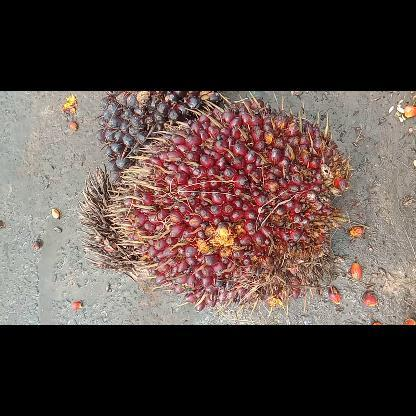Janjang kosong: (77, 165, 159, 292)
TBS masak: (101, 92, 350, 314)
TBS mentah: (96, 90, 219, 182)
